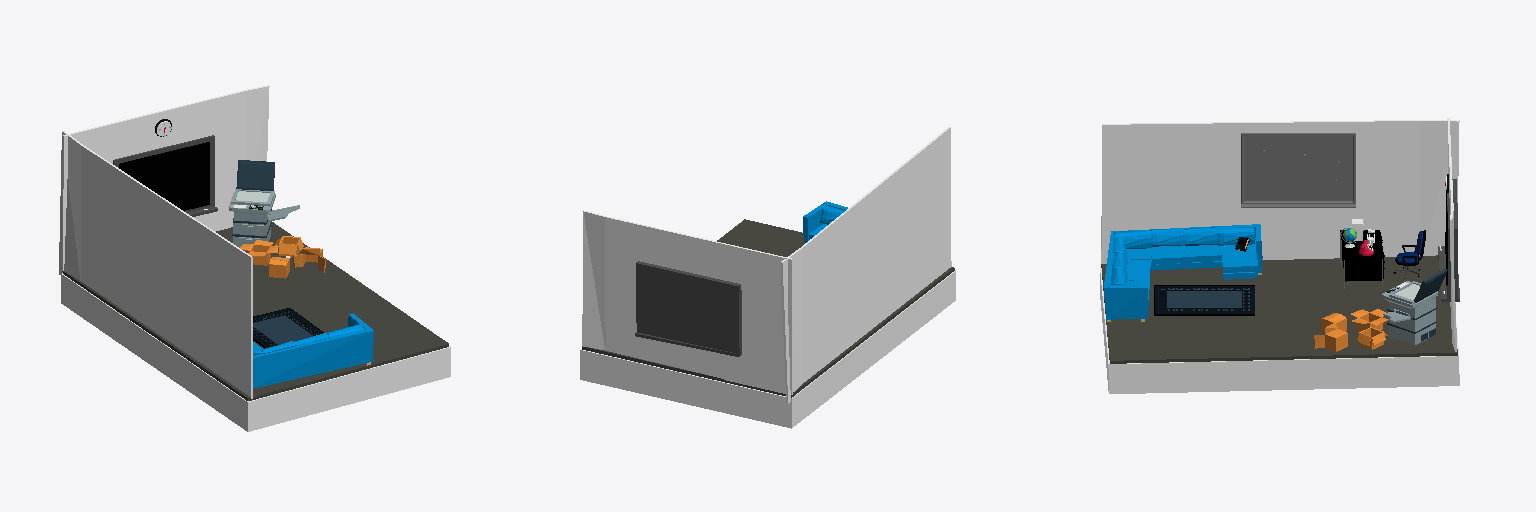
Rendered from Comisariria.obj.
3 renders of one model, left to right at view 1: azimuth 30°, elevation 25°; view 2: azimuth 150°, elevation 25°; view 3: azimuth 270°, elevation 25°, orthographic.
Visible parts, largest first — view 1: model5:mesh[number redacted] group, model4:mesh[number redacted], model8:mesh[number redacted] group1, model4:mesh[number redacted], model6:mesh[number redacted], model4:mesh[number redacted], model7:Mesh, model13:Mesh, model4:mesh[number redacted], model_1_:mesh[number redacted]; view 2: model5:mesh[number redacted] group, model4:mesh[number redacted], model4:mesh[number redacted], model4:mesh[number redacted], model8:mesh[number redacted] group1; view 3: model5:mesh[number redacted] group, model8:mesh[number redacted] group1, model4:mesh[number redacted], Message_Board_02:Message_Board, model13:Mesh, model7:Mesh, _Mesh, model6:mesh[number redacted], model4:mesh[number redacted], model6:mesh[number redacted], model4:mesh[number redacted], model_1_:mesh[number redacted] (+8 smaller).
Part boxes in pixels (left/top/right/bottom): model5:mesh[number redacted] group: left=59, top=131, right=252, bottom=398; model4:mesh[number redacted]: left=61, top=273, right=450, bottom=431; model8:mesh[number redacted] group1: left=63, top=221, right=448, bottom=400; model4:mesh[number redacted]: left=62, top=85, right=269, bottom=270; model6:mesh[number redacted]: left=253, top=328, right=373, bottom=388; model4:mesh[number redacted]: left=119, top=142, right=209, bottom=210; model7:Mesh: left=229, top=160, right=299, bottom=247; model13:Mesh: left=253, top=308, right=323, bottom=348; model4:mesh[number redacted]: left=113, top=135, right=214, bottom=212; model_1_:mesh[number redacted]: left=240, top=240, right=278, bottom=265; model5:mesh[number redacted] group: left=781, top=127, right=951, bottom=403; model4:mesh[number redacted]: left=582, top=211, right=792, bottom=394; model4:mesh[number redacted]: left=580, top=270, right=955, bottom=428; model4:mesh[number redacted]: left=636, top=261, right=741, bottom=355; model8:mesh[number redacted] group1: left=582, top=219, right=954, bottom=397; model5:mesh[number redacted] group: left=1101, top=120, right=1459, bottom=263; model8:mesh[number redacted] group1: left=1101, top=255, right=1457, bottom=363; model4:mesh[number redacted]: left=1100, top=264, right=1459, bottom=393; Message_Board_02:Message_Board: left=1241, top=133, right=1355, bottom=207; model13:Mesh: left=1154, top=285, right=1254, bottom=315; model7:Mesh: left=1382, top=268, right=1447, bottom=344; _Mesh: left=1340, top=230, right=1384, bottom=289; model6:mesh[number redacted]: left=1110, top=285, right=1147, bottom=319; model4:mesh[number redacted]: left=1447, top=118, right=1456, bottom=351; model6:mesh[number redacted]: left=1222, top=240, right=1257, bottom=272; model4:mesh[number redacted]: left=1447, top=179, right=1457, bottom=298; model_1_:mesh[number redacted]: left=1314, top=322, right=1347, bottom=351.
Bounding box in the file's own units: 3.14 × 2.37 × 4.48.